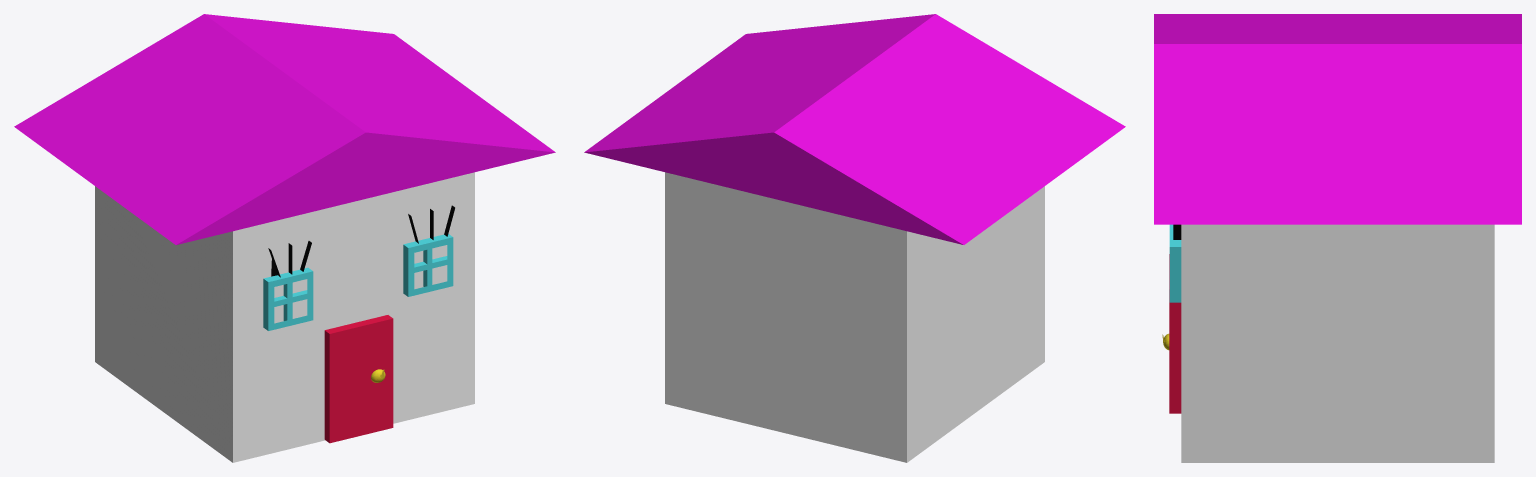
File: HouseGirl.fbx
3 renders of one model, left to right at view 1: azimuth 30°, elevation 25°; view 2: azimuth 150°, elevation 25°; view 3: azimuth 270°, elevation 25°, orthographic. The views are drawn at different scales.
Parts seen in each view (by area): view 1: Window2; view 2: Window2; view 3: Window2.
Part boxes in pixels (left/top/right/bottom): Window2: left=14, top=14, right=555, bottom=462; Window2: left=584, top=14, right=1125, bottom=462; Window2: left=1154, top=14, right=1521, bottom=462.
Size of the model in its own units: 271 by 211 by 200.
